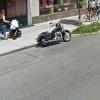Motorcycle: (29, 23, 74, 51)
